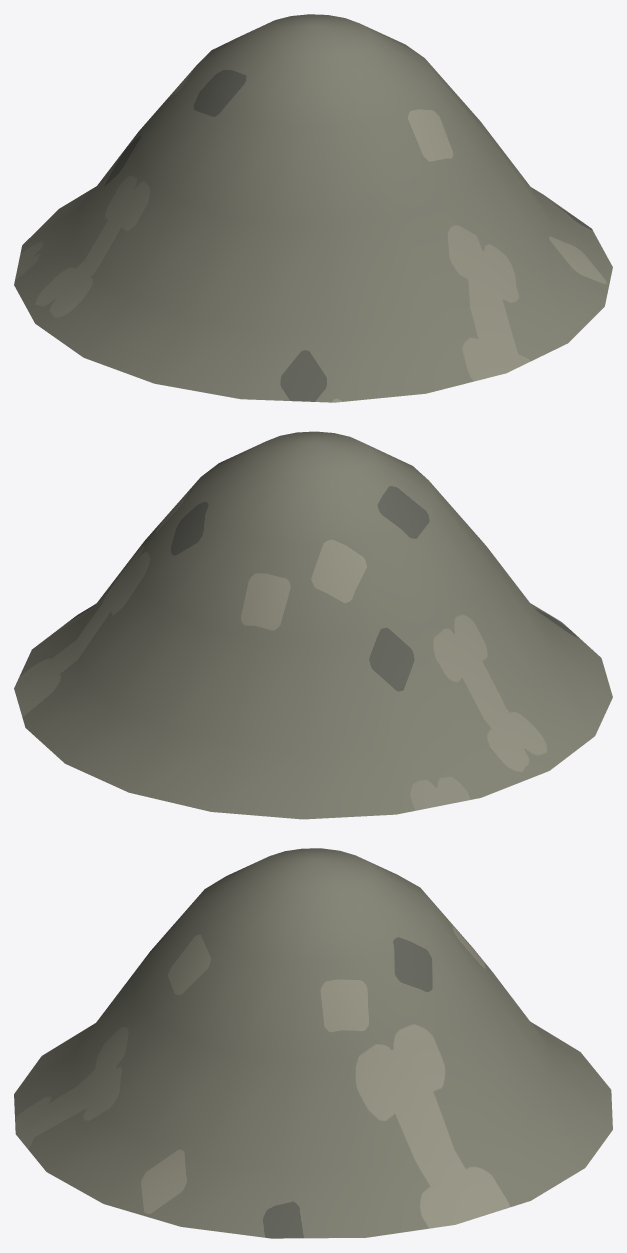
Rendered from skull_pile_small_texture.fbx.
3 renders of one model, top to bottom at view 1: azimuth 30°, elevation 25°; view 2: azimuth 150°, elevation 25°; view 3: azimuth 270°, elevation 25°, orthographic.
Visible parts, largest first — view 1: skull_pile_small_texture; view 2: skull_pile_small_texture; view 3: skull_pile_small_texture.
Part boxes in pixels (box(x1,y1,x2,y2)): skull_pile_small_texture: box(14, 14, 612, 402); skull_pile_small_texture: box(14, 431, 612, 819); skull_pile_small_texture: box(14, 848, 612, 1238).
Bounding box in the file's own units: 289 × 134 × 289.
